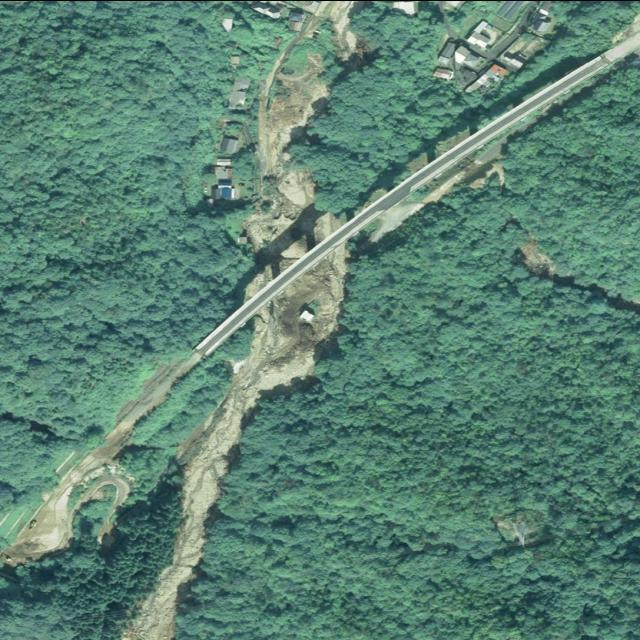landslide: (122, 245, 348, 640), (247, 48, 340, 295), (327, 0, 358, 58)
